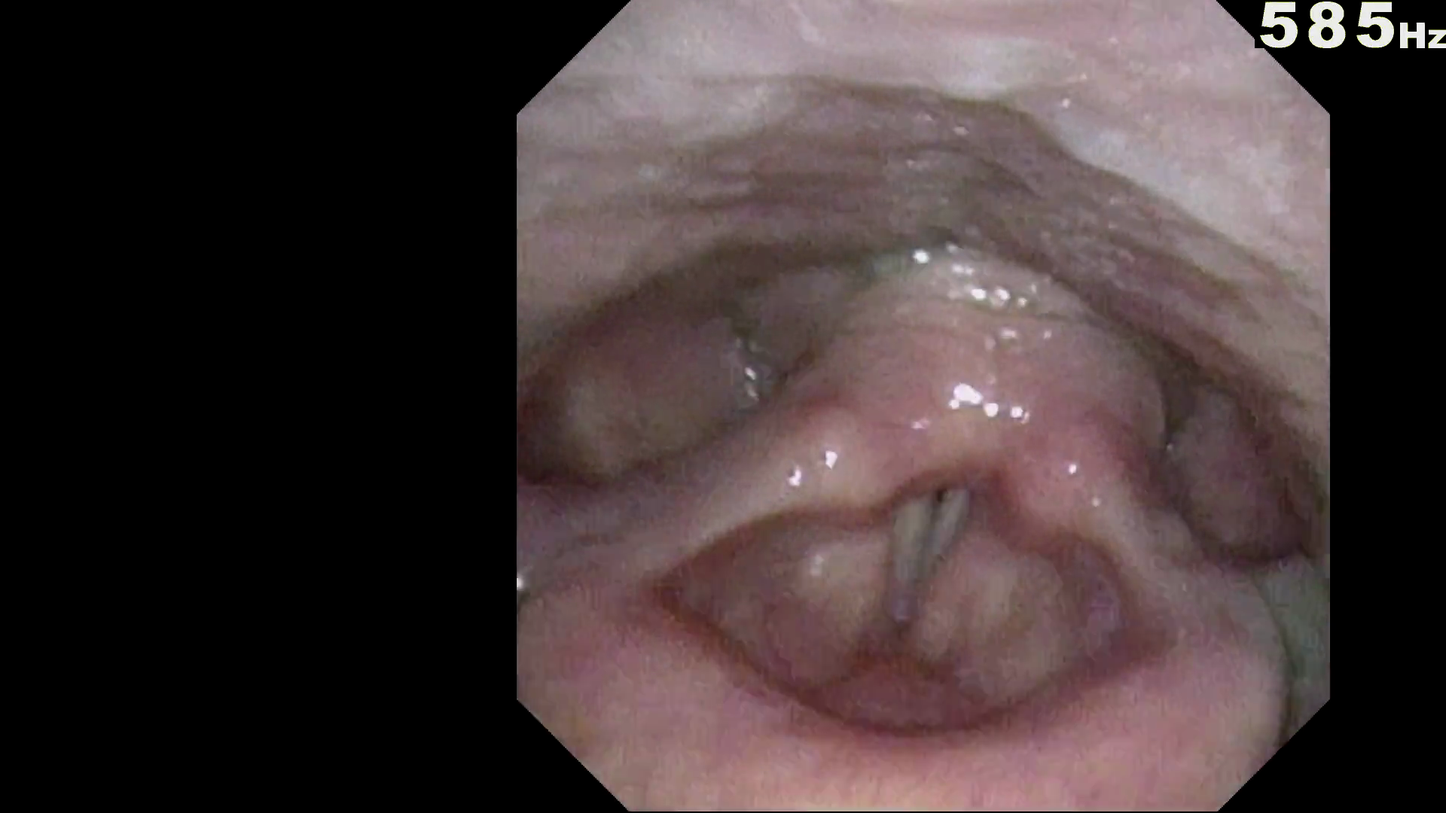epiglottis: (618, 524, 1239, 788)
trachea: (849, 478, 961, 603)
